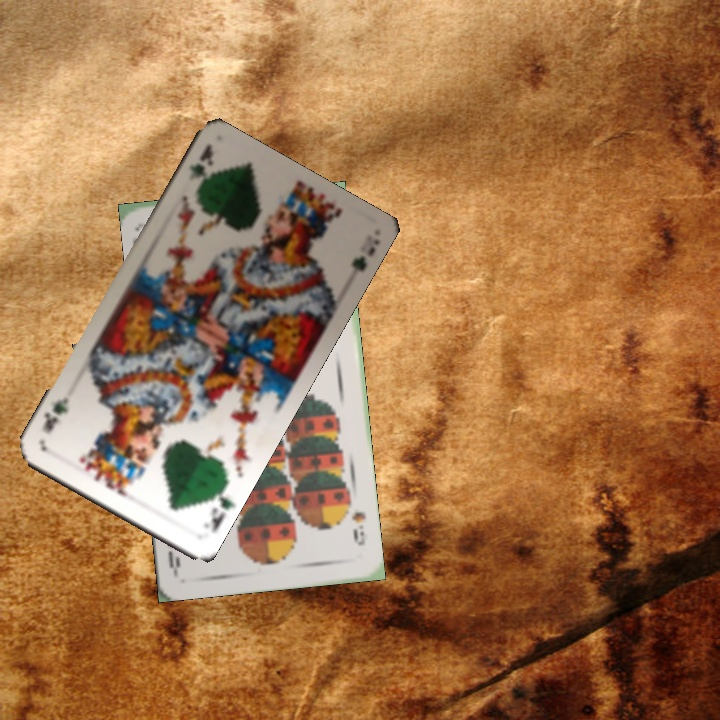GK: (199, 483, 235, 536), (184, 141, 216, 184)
S9: (348, 507, 368, 548)
